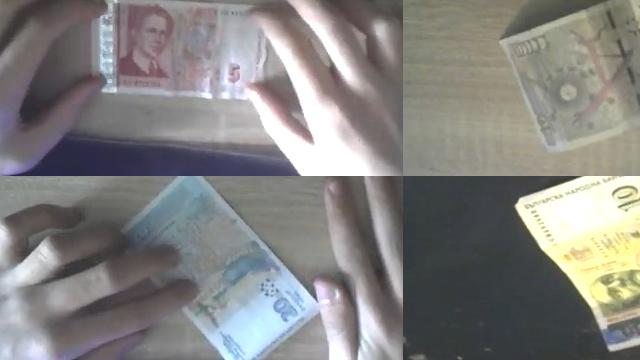10leva: (590, 270, 640, 312), (601, 177, 640, 224)
20leva: (122, 176, 320, 360)
5leva: (120, 3, 267, 97)
